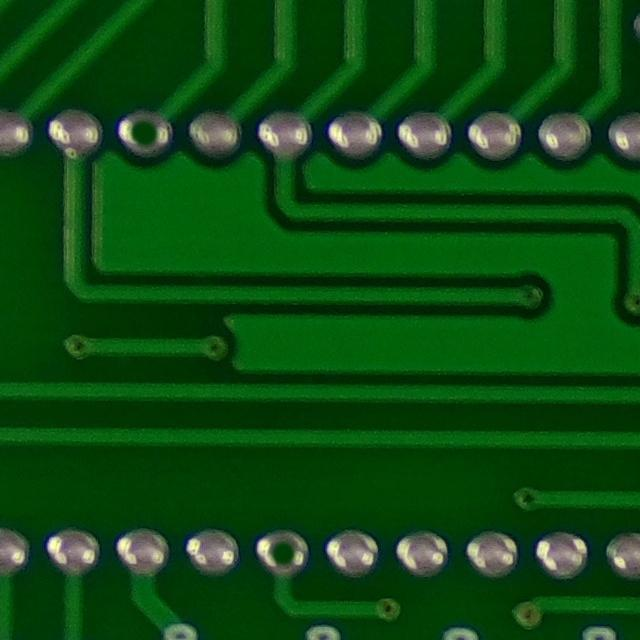missing_hole: (114, 103, 176, 167), (253, 521, 314, 585)
